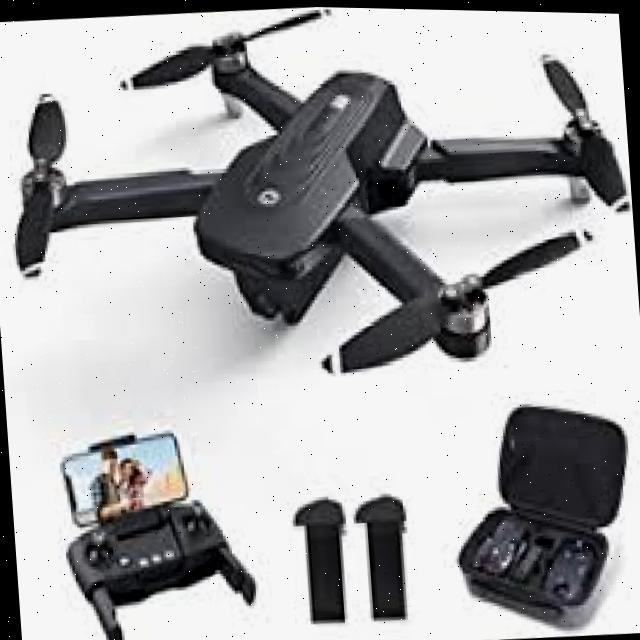drone: (0, 0, 640, 418)
